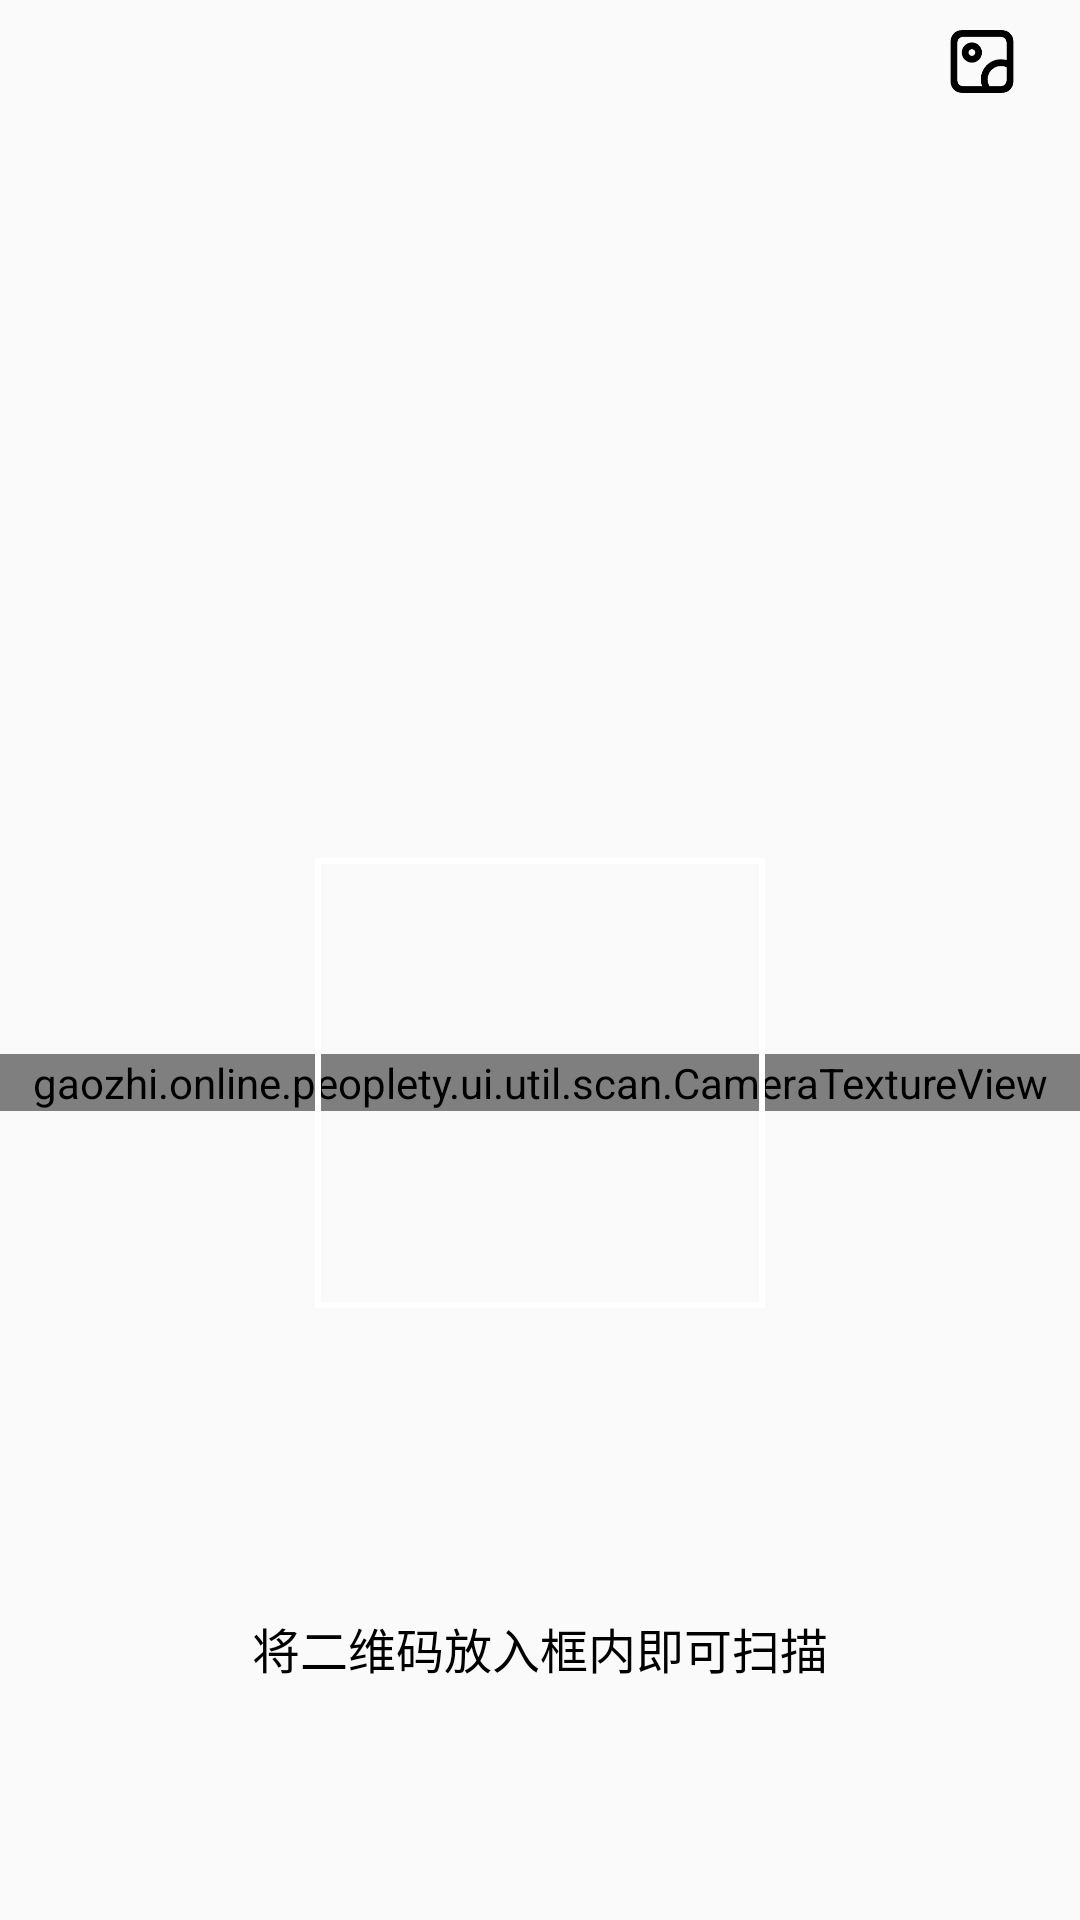

Icon bounding boxes for this 1080×1920 phone screenshot, format region(x1, y1, x2, y2):
album: region(950, 30, 1014, 93)
